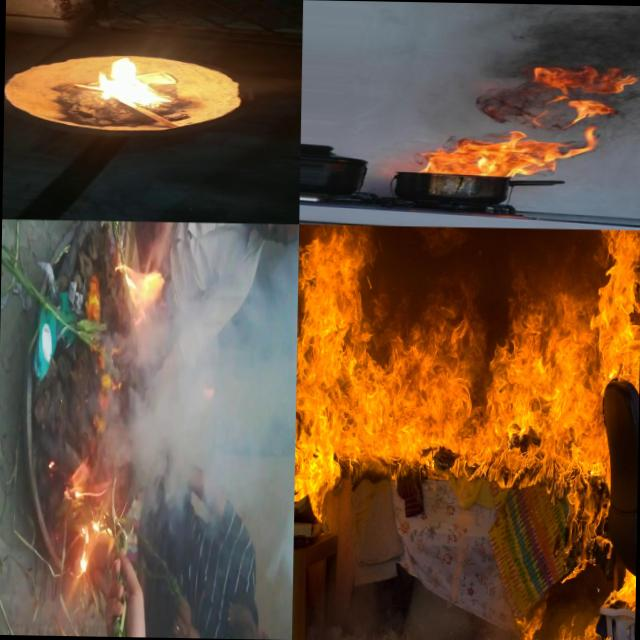fire: (291, 224, 640, 640), (416, 127, 598, 177), (534, 62, 636, 120), (92, 54, 188, 104), (120, 529, 146, 637)
smoke: (149, 221, 230, 638), (112, 223, 158, 524), (477, 2, 640, 63), (228, 223, 276, 320), (468, 80, 534, 124)
